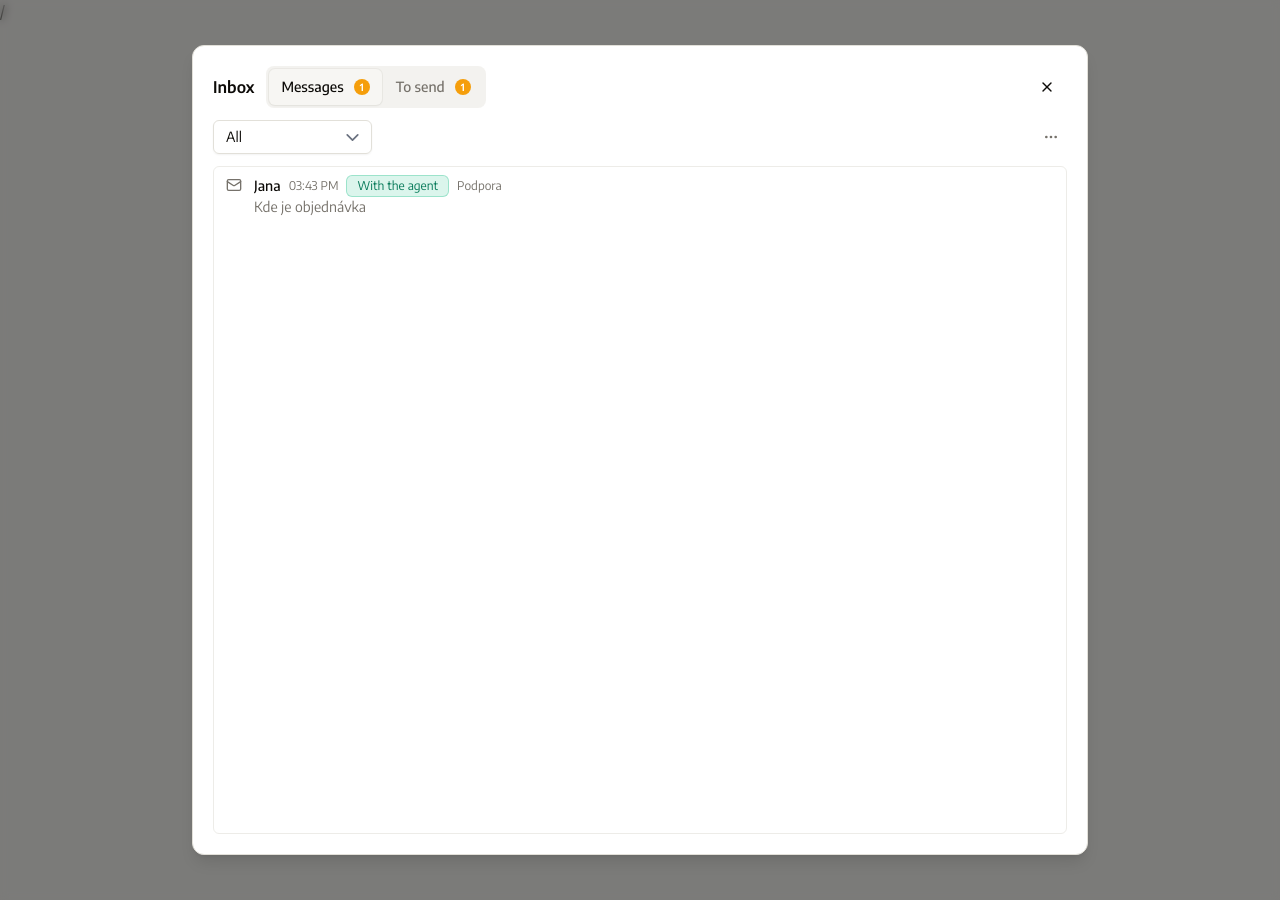
it: InboxOverlay › escape over a message closes the message, not the inbox
Click the text "Kde je objednávka" at (310, 206), box x1=254 y1=198 x2=366 y2=215
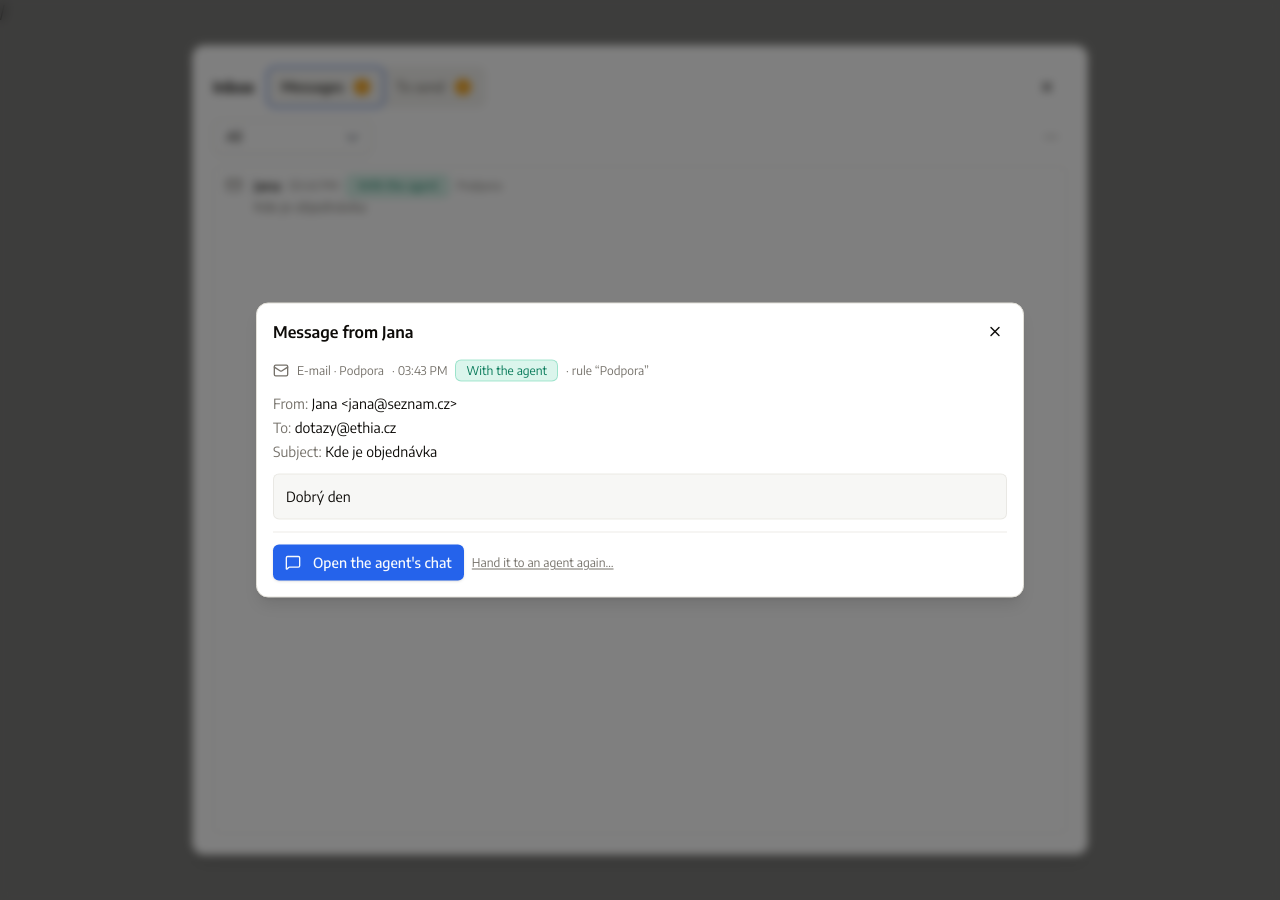
Expected: the heading "Message from Jana" is shown, x1=273 y1=320 x2=414 y2=344
Press Escape
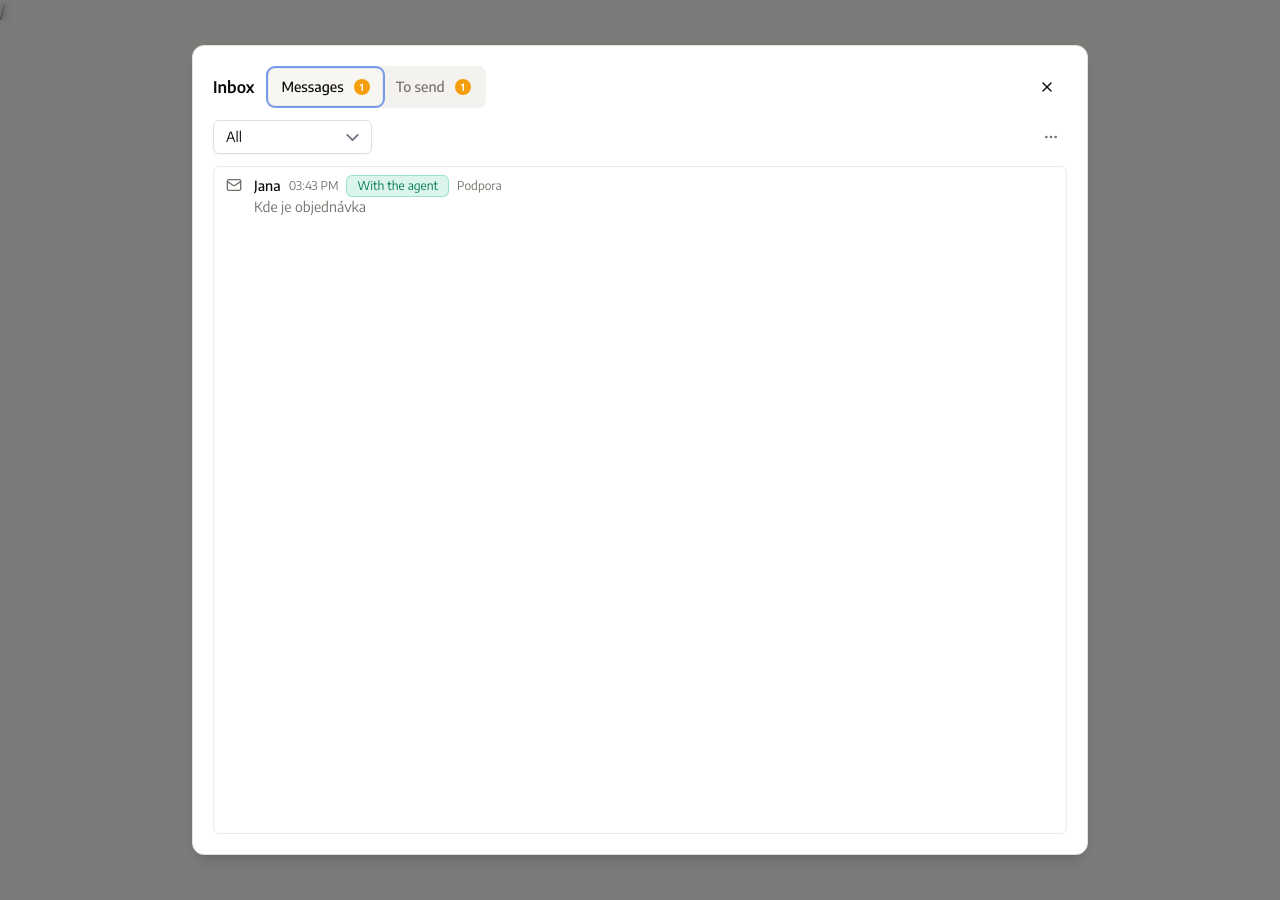
Expected: the heading "Message from Jana" is gone
